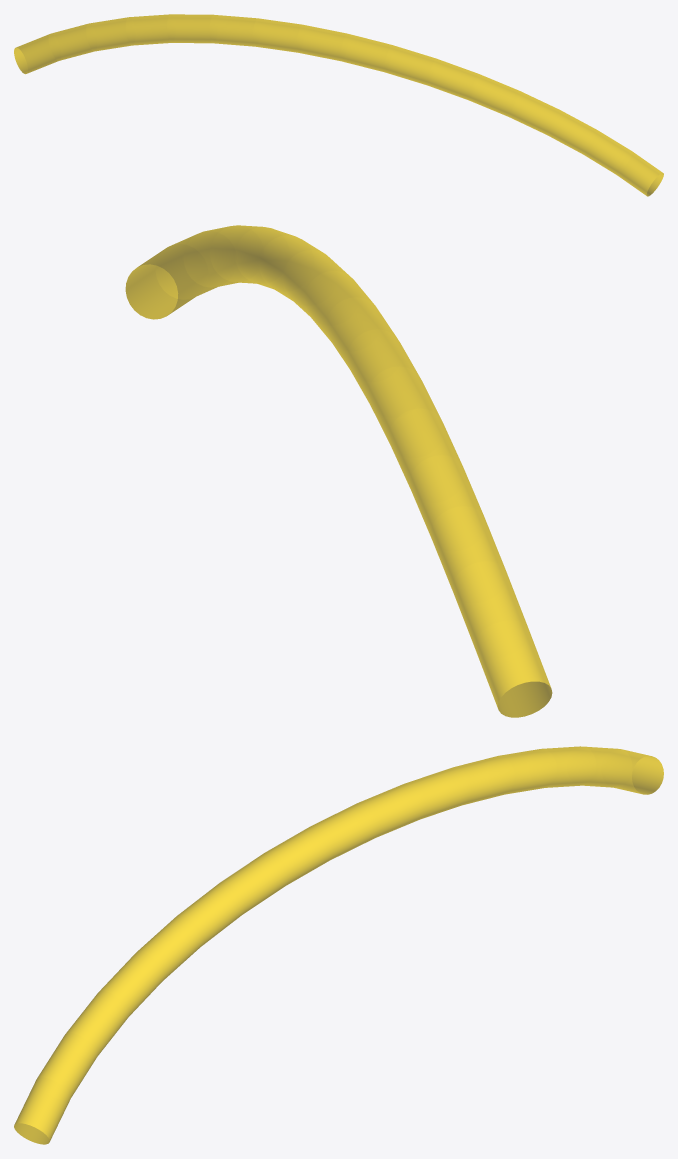
Rendered from Event_419990632_track_55.fbx.
3 views of the same model, one above another, from view 1: azimuth 30°, elevation 25°; view 2: azimuth 150°, elevation 25°; view 3: azimuth 270°, elevation 25° (orthographic). The views are drawn at different scales.
Parts seen in each view (by area): view 1: Model; view 2: Model; view 3: Model.
Part boxes in pixels (x1,y1,x2,y2): Model: [14, 14, 663, 196]; Model: [125, 225, 552, 717]; Model: [14, 746, 663, 1144].
Bounding box in the file's own units: 0.6925 × 0.2125 × 0.6609.
